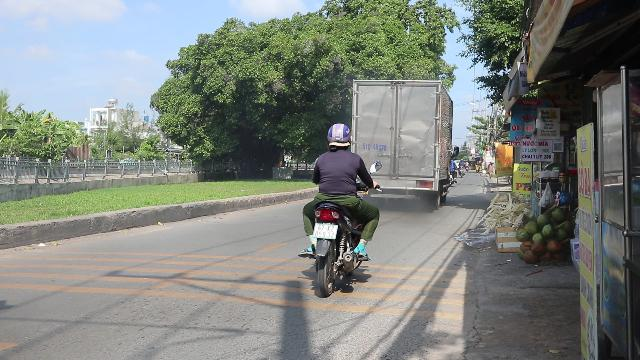helmet: (324, 122, 352, 150)
licenseplate: (312, 223, 338, 239)
motorcyclist: (296, 122, 382, 298)
